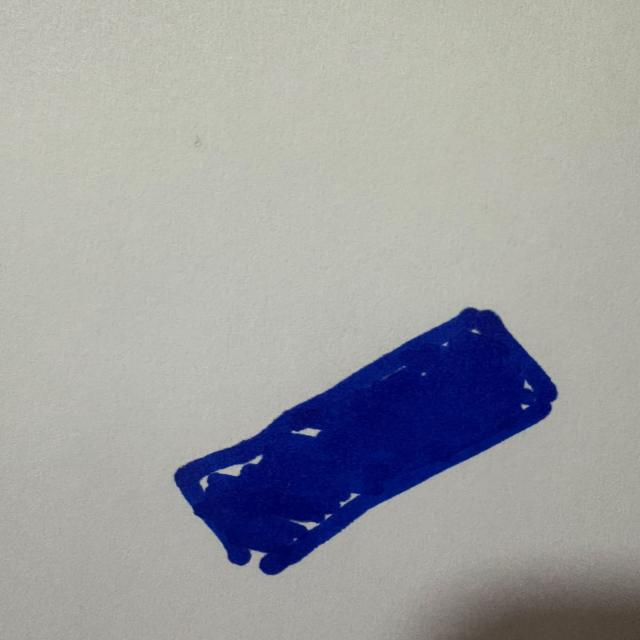Rectangle: (156, 298, 588, 594)
